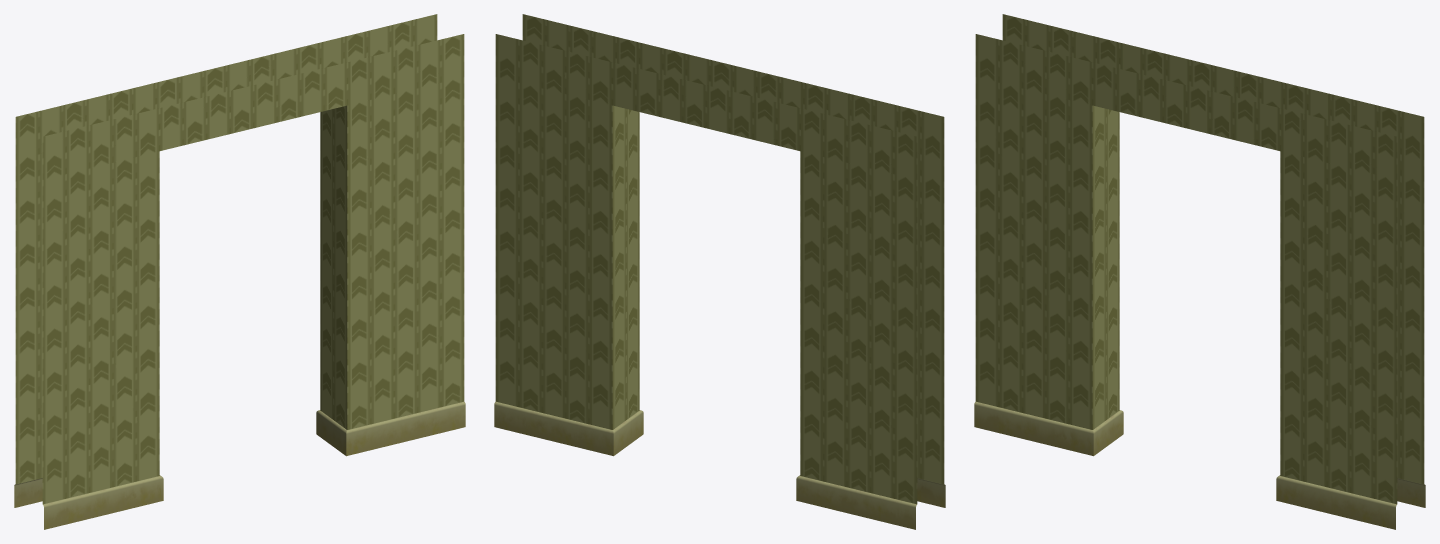
File: WallBottomCutBothWithHole.fbx
3 renders of one model, left to right at view 1: azimuth 30°, elevation 25°; view 2: azimuth 150°, elevation 25°; view 3: azimuth 330°, elevation 25°, orthographic.
Visible parts, largest first — view 1: WallBottomCutBothWithHole; view 2: WallBottomCutBothWithHole; view 3: WallBottomCutBothWithHole.
Part boxes in pixels (x1,y1,x2,y2): WallBottomCutBothWithHole: (14,14,465,529); WallBottomCutBothWithHole: (494,14,945,529); WallBottomCutBothWithHole: (974,14,1425,529).
Bounding box in the file's own units: 450 × 400 × 55.
